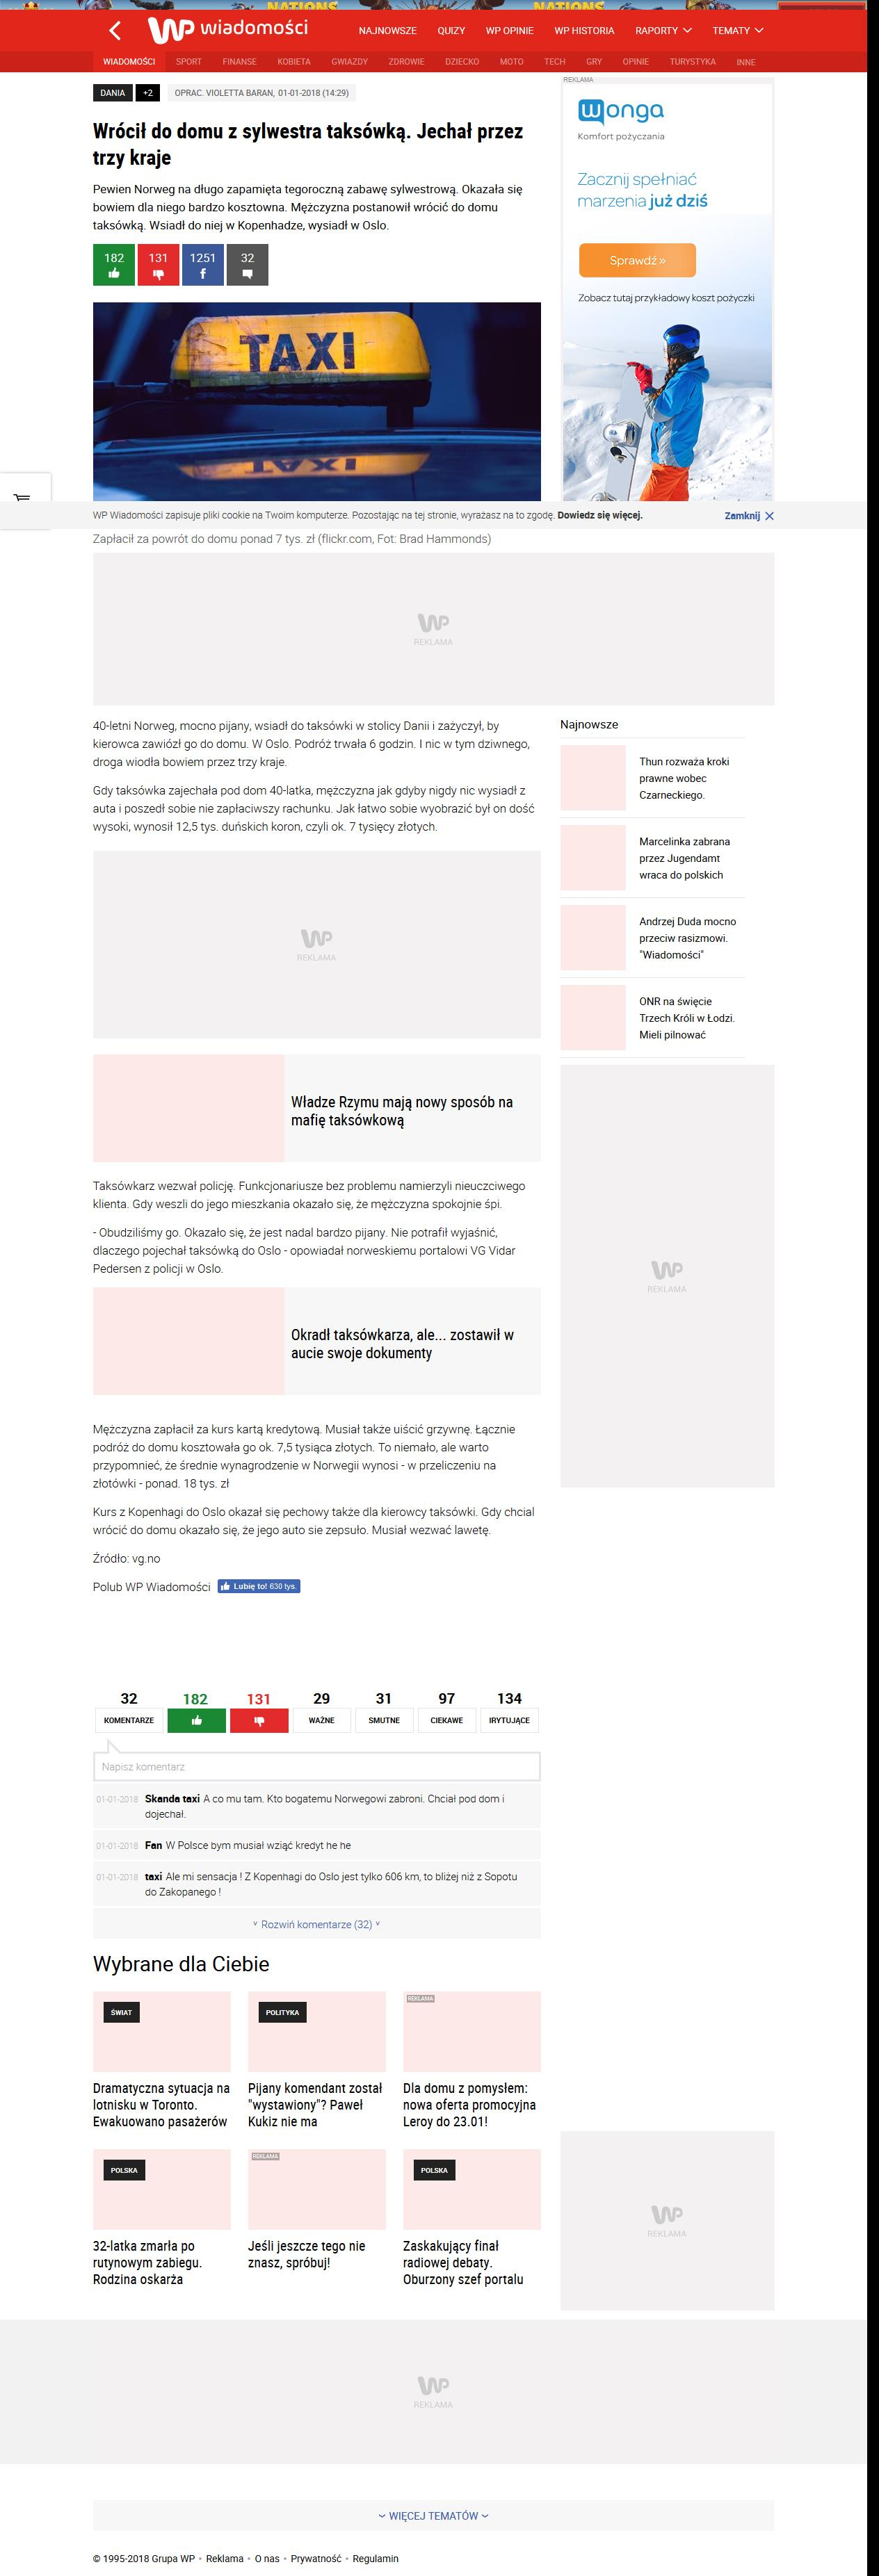title: (92, 122, 524, 168)
